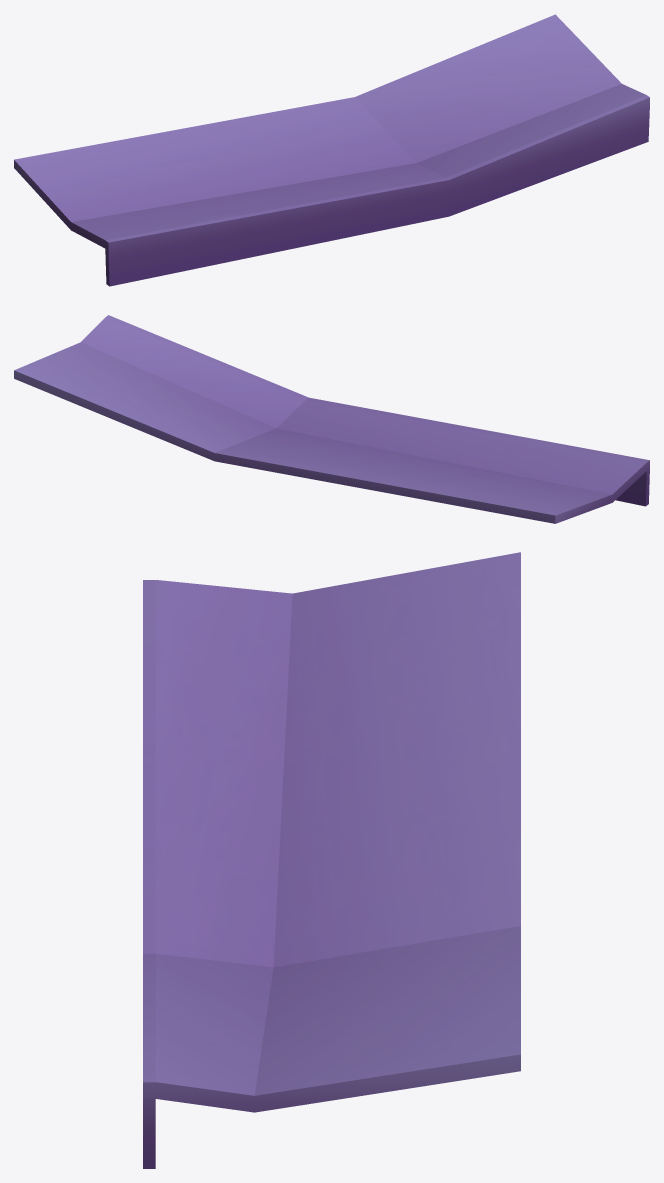
File: SM_Building8.fbx
3 renders of one model, top to bottom at view 1: azimuth 30°, elevation 25°; view 2: azimuth 150°, elevation 25°; view 3: azimuth 270°, elevation 25°, orthographic. The views are drawn at different scales.
Parts seen in each view (by area): view 1: Cube.117; view 2: Cube.117; view 3: Cube.117.
Boxes of the visible parts, box(x1,y1,x2,y2) form: Cube.117: box(14, 14, 649, 286); Cube.117: box(14, 315, 649, 523); Cube.117: box(143, 552, 520, 1168).
Bounding box in the file's own units: 14.53 × 2.15 × 4.39.
